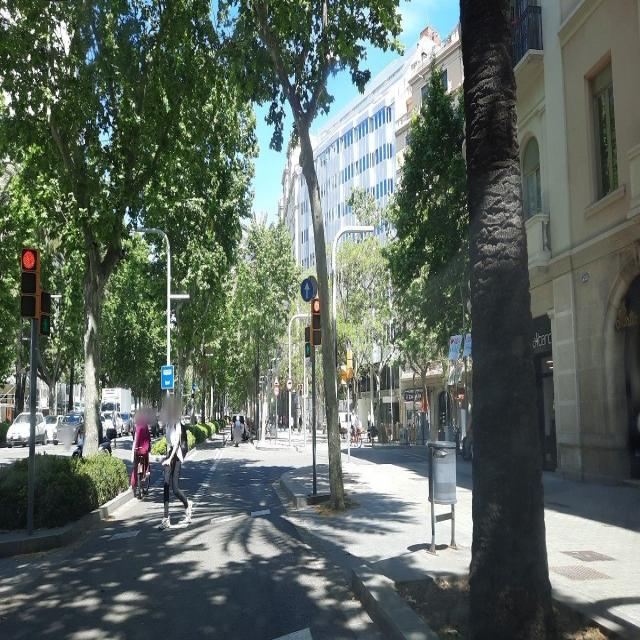bike: (132, 441, 150, 498)
car: (6, 411, 47, 449), (100, 407, 124, 439), (45, 414, 65, 444), (120, 412, 135, 436)
